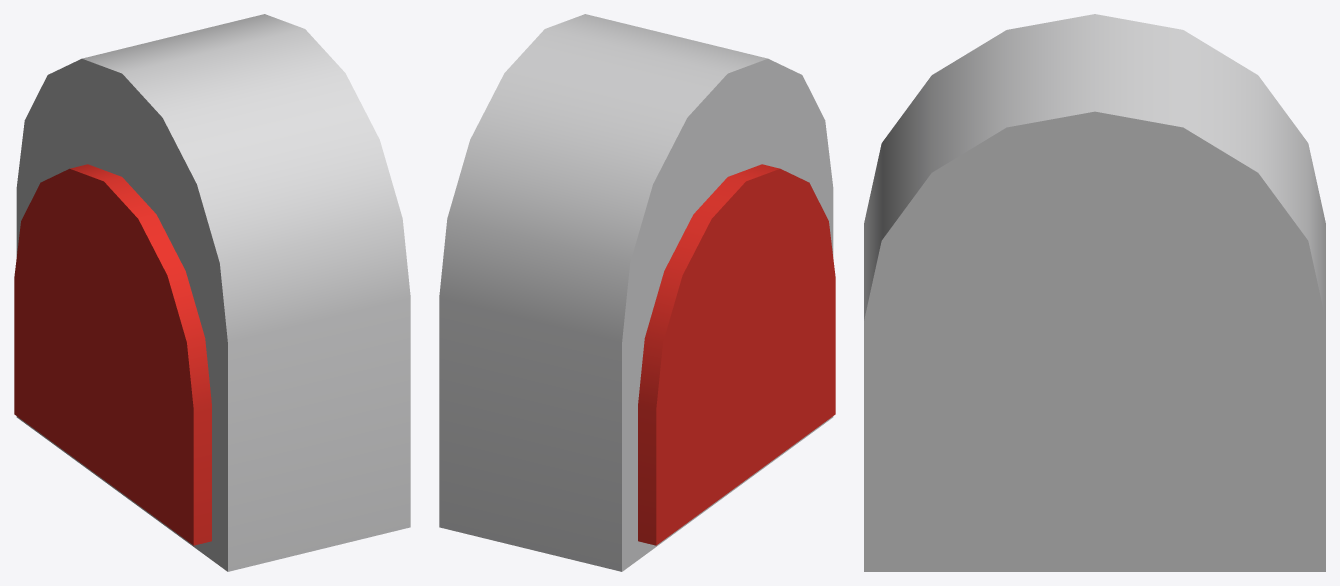
Rendered from tombstone_lod1.glb.
3 renders of one model, left to right at view 1: azimuth 30°, elevation 25°; view 2: azimuth 150°, elevation 25°; view 3: azimuth 270°, elevation 25°, orthographic. The views are drawn at different scales.
Visible parts, largest first — view 1: tombstone_lod1; view 2: tombstone_lod1; view 3: tombstone_lod1.
Boxes of the visible parts, bbox=[...] form: tombstone_lod1: bbox=[14, 14, 410, 571]; tombstone_lod1: bbox=[439, 14, 835, 571]; tombstone_lod1: bbox=[864, 14, 1325, 571].
Size of the model in its own units: 0.055 by 0.11 by 0.1.
